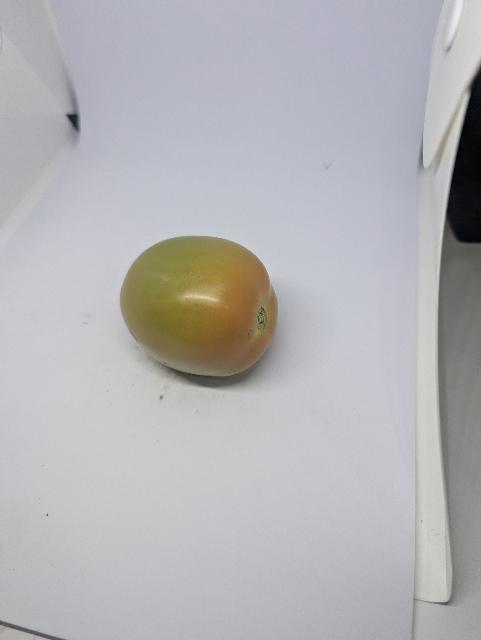breaker: (120, 236, 278, 376)
